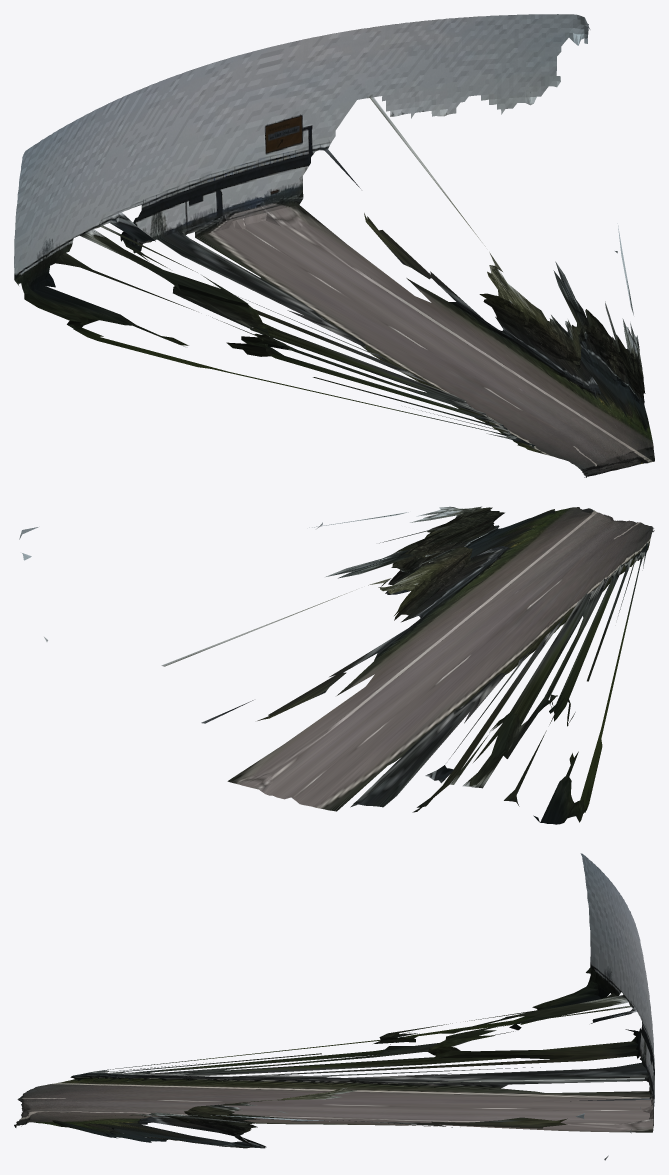
3 renders of one model, top to bottom at view 1: azimuth 30°, elevation 25°; view 2: azimuth 150°, elevation 25°; view 3: azimuth 270°, elevation 25°, orthographic. The views are drawn at different scales.
Visible parts, largest first — view 1: defaultobject; view 2: defaultobject; view 3: defaultobject.
Boxes of the visible parts, bbox=[...] form: defaultobject: bbox=[14, 14, 654, 477]; defaultobject: bbox=[19, 506, 654, 824]; defaultobject: bbox=[14, 853, 654, 1160].
Size of the model in its own units: 40.91 by 12.53 by 44.59.
1 material, 1 textured.
